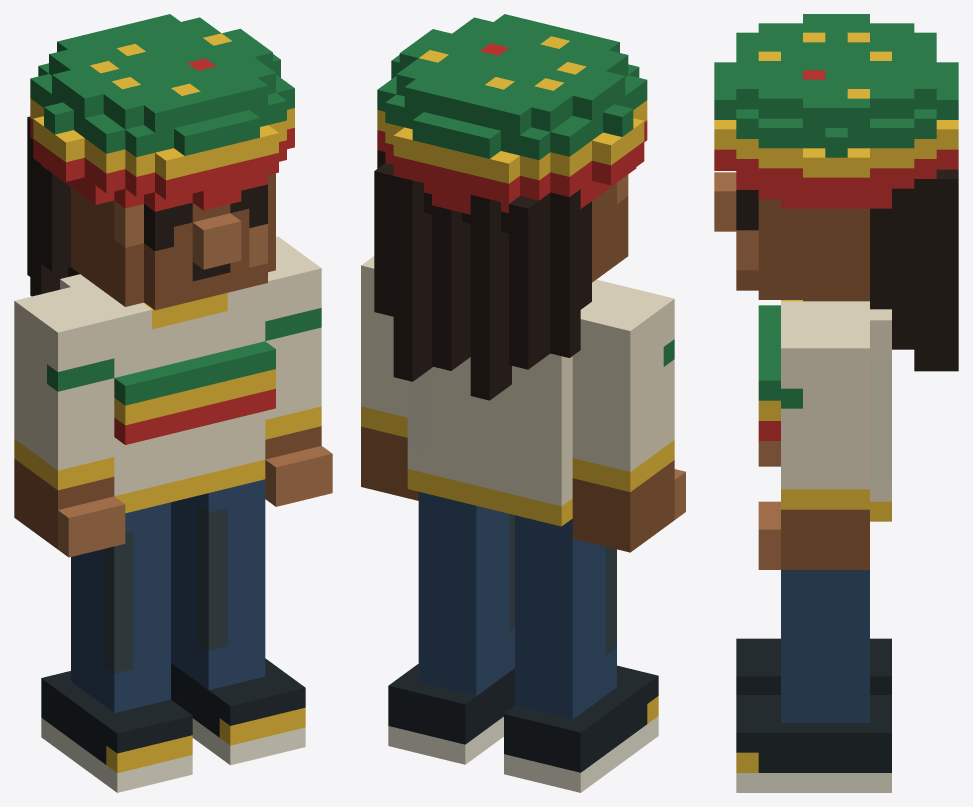
Rendered from rasta_grower.glb.
3 views of the same model, side by side, from view 1: azimuth 30°, elevation 25°; view 2: azimuth 150°, elevation 25°; view 3: azimuth 270°, elevation 25° (orthographic). The views are drawn at different scales.
Visible parts, largest first — view 1: head, torso, leg_left, leg_right, arm_left, arm_right; view 2: head, leg_left, leg_right, arm_left, torso, arm_right; view 3: head, leg_right, arm_right, torso, leg_left, arm_left.
Boxes of the visible parts, x1,y1,x2,y2 form: head: [27, 14, 294, 310]; torso: [60, 274, 275, 513]; leg_left: [41, 502, 192, 792]; leg_right: [171, 479, 305, 765]; arm_left: [14, 287, 125, 557]; arm_right: [265, 236, 332, 506]; head: [374, 14, 647, 400]; leg_left: [504, 515, 658, 792]; leg_right: [388, 492, 514, 764]; arm_left: [572, 284, 685, 552]; torso: [407, 279, 616, 526]; arm_right: [361, 256, 418, 500]; head: [714, 14, 958, 371]; leg_right: [736, 570, 891, 792]; arm_right: [758, 320, 869, 569]; torso: [758, 300, 891, 521]; leg_left: [736, 638, 891, 694]; arm_left: [758, 441, 780, 466].
Bounding box in the file's own units: 0.7 × 1.7 × 0.55.
1 material, 1 textured.
